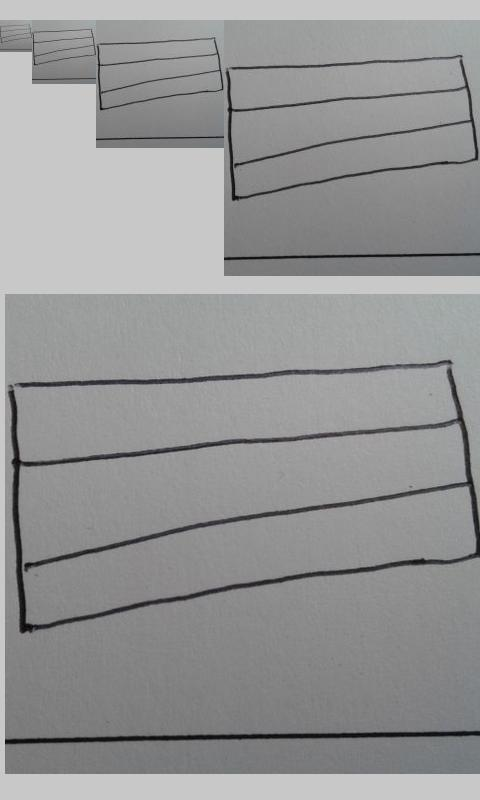list_view: (5, 356, 480, 635), (226, 54, 480, 200), (97, 37, 224, 111), (32, 28, 96, 67), (1, 23, 32, 44)
